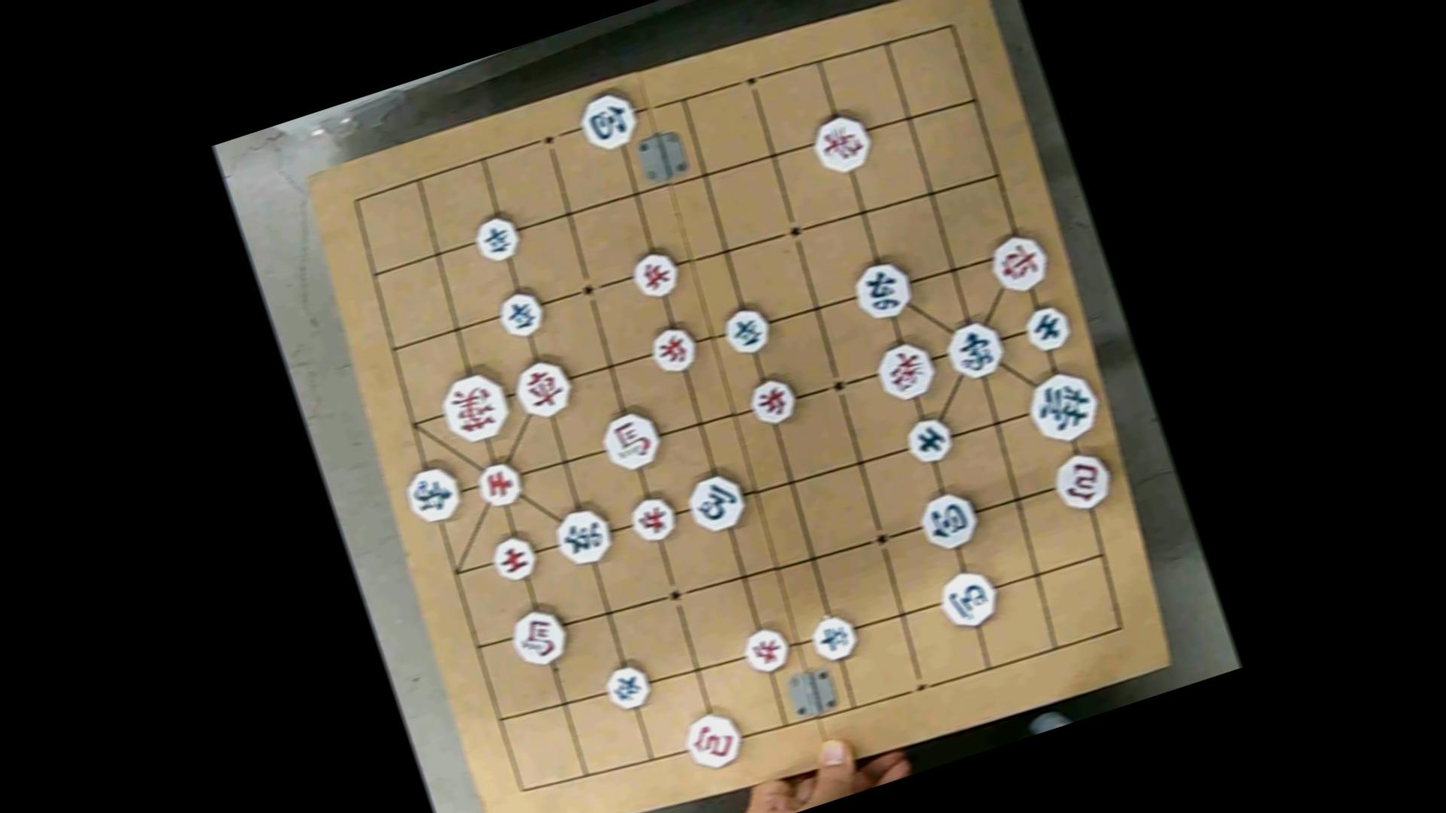cha_green: (548, 504, 616, 570), (850, 260, 916, 321)
cha_red: (983, 230, 1051, 298), (513, 353, 578, 422)
jol_green: (807, 608, 862, 665), (468, 210, 522, 264), (601, 659, 654, 714), (493, 285, 546, 340), (721, 308, 770, 358)
jol_red: (627, 247, 682, 303), (624, 489, 678, 546), (746, 371, 799, 428), (645, 321, 699, 376), (740, 623, 792, 678)
ma_green: (935, 565, 1002, 635), (682, 467, 746, 534)
ma_red: (597, 403, 666, 477), (505, 602, 570, 671)
po_green: (575, 87, 641, 154), (916, 486, 981, 554)
po_red: (1048, 446, 1115, 517), (680, 706, 746, 775)
sa_green: (901, 412, 957, 469), (1020, 301, 1075, 354)
sa_red: (470, 454, 528, 514), (485, 532, 541, 587)
sang_green: (941, 317, 1008, 382), (401, 464, 467, 528)
sang_red: (808, 112, 874, 176), (874, 339, 937, 401)
wang_green: (1021, 364, 1103, 447)
wang_red: (435, 367, 514, 446)
